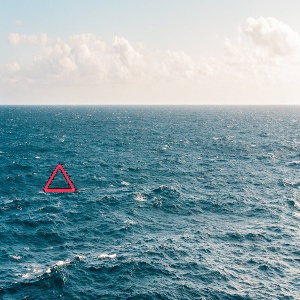triangle: (41, 162, 78, 196)
